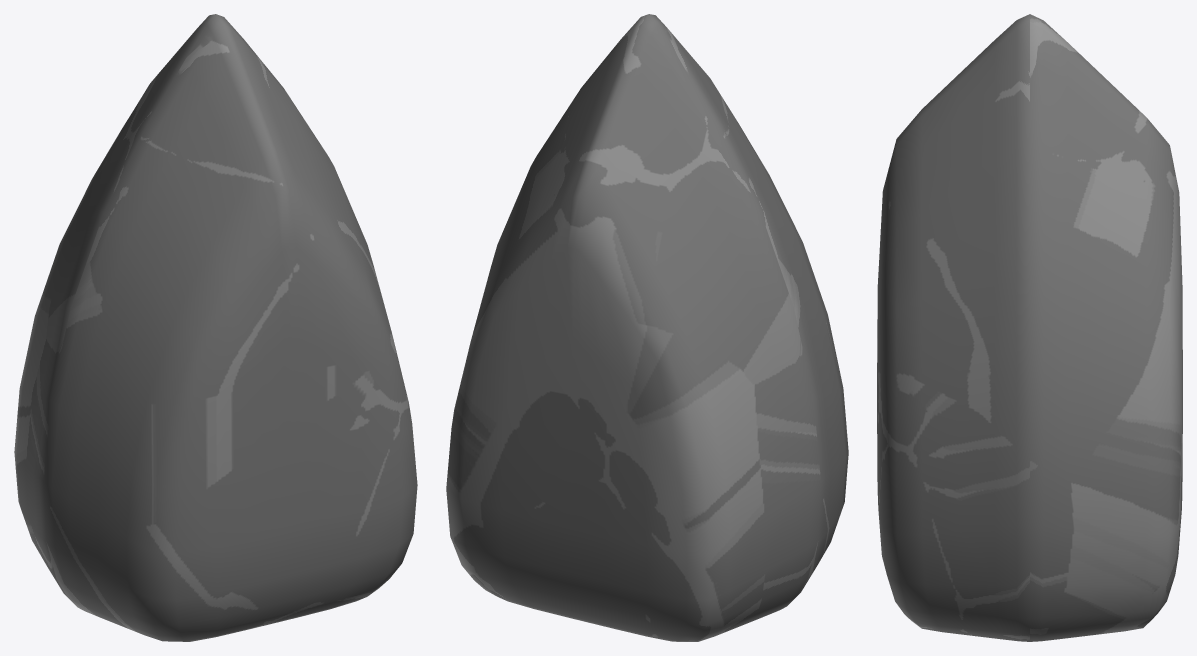
The model's file is CTS_E_OceanRockC.fbx.
3 renders of one model, left to right at view 1: azimuth 30°, elevation 25°; view 2: azimuth 150°, elevation 25°; view 3: azimuth 270°, elevation 25°, orthographic.
Parts seen in each view (by area): view 1: CTS_E_OceanRockC; view 2: CTS_E_OceanRockC; view 3: CTS_E_OceanRockC.
Boxes of the visible parts, x1,y1,x2,y2 form: CTS_E_OceanRockC: [14, 14, 417, 641]; CTS_E_OceanRockC: [446, 14, 848, 641]; CTS_E_OceanRockC: [877, 14, 1182, 641].
Bounding box in the file's own units: 12652 × 19873 × 9683.
